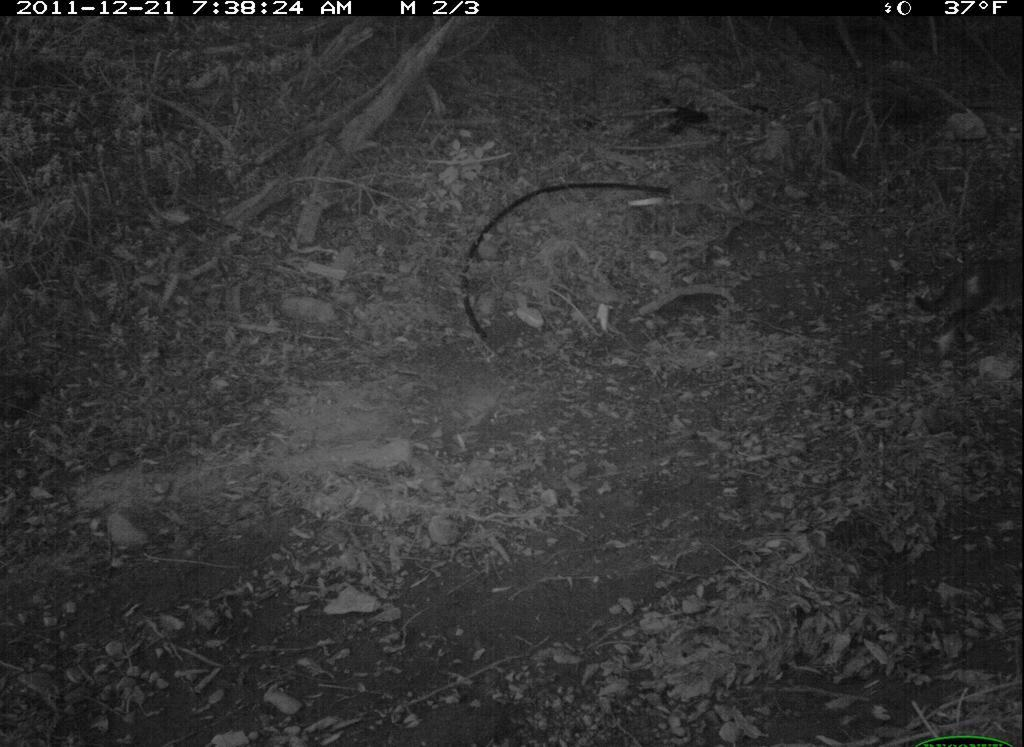cat: (905, 246, 1023, 353)
